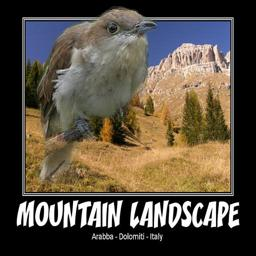Cuckoo: (33, 6, 157, 184)
